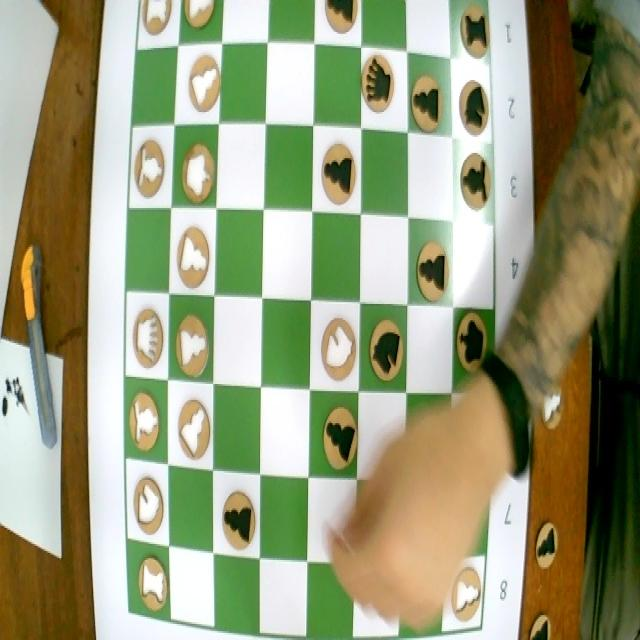chess-pieces: (311, 397, 358, 475), (171, 217, 214, 293), (317, 136, 360, 212), (123, 388, 165, 462), (216, 482, 258, 556), (366, 312, 404, 392), (173, 398, 211, 476), (359, 46, 399, 118), (129, 545, 169, 616), (184, 48, 222, 121), (318, 312, 357, 383), (412, 233, 448, 307), (449, 560, 485, 634), (457, 146, 494, 218), (456, 64, 493, 136), (128, 305, 167, 373), (175, 307, 212, 378), (181, 140, 217, 206), (128, 472, 165, 536), (409, 71, 445, 136), (454, 304, 486, 376), (132, 132, 166, 198), (457, 1, 492, 62), (322, 0, 362, 41), (137, 0, 174, 43), (182, 0, 216, 39)
